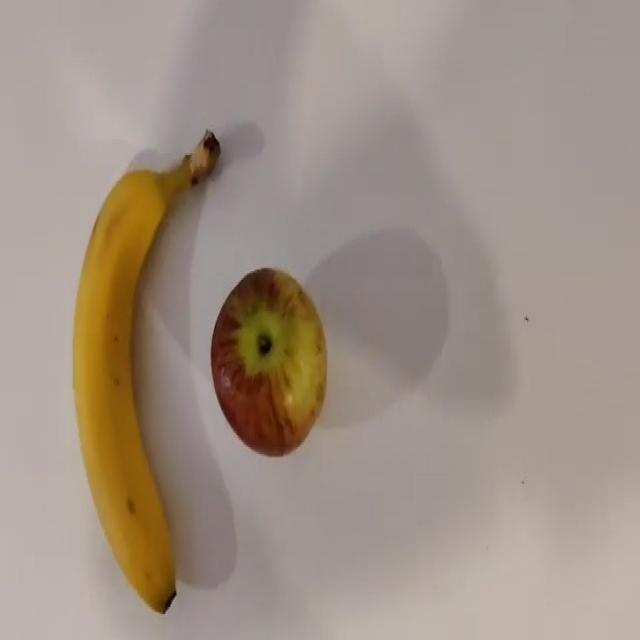Apple: (209, 266, 327, 457)
Banana: (71, 128, 221, 614)
